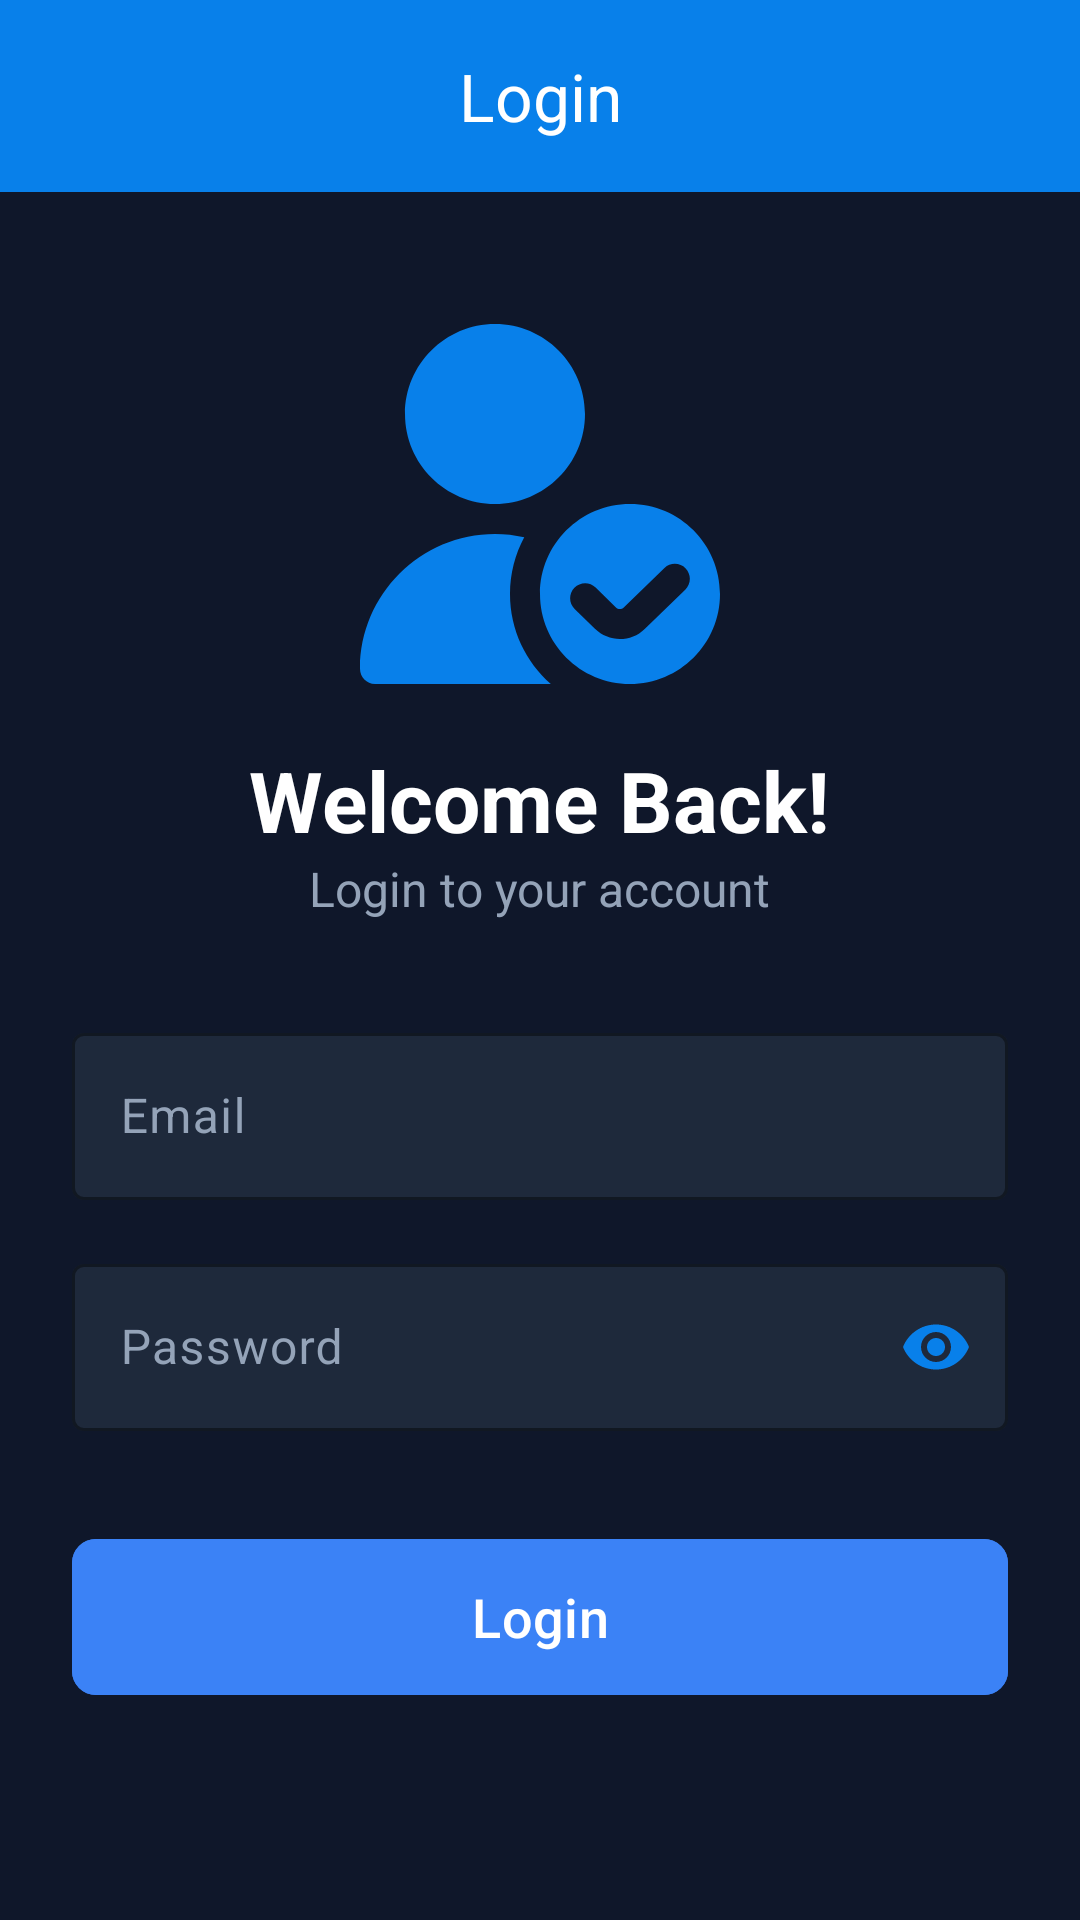

Where icons sit on this 1080px×1920px app screen, as bbox=(x1, y1, x2, y2):
user trust: bbox=(360, 324, 720, 684)
